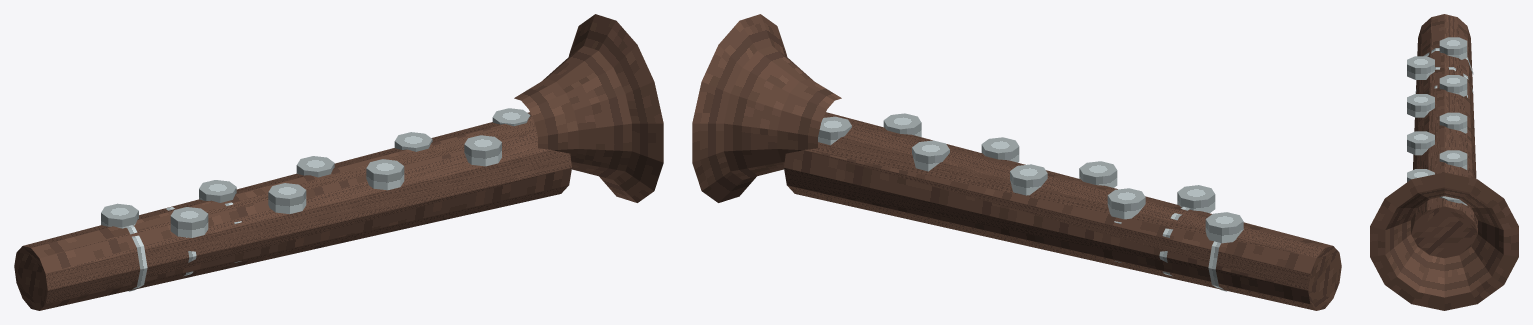
File: clarinet.glb
The picture shows the model from 3 angles, left to right: view 1: azimuth 30°, elevation 25°; view 2: azimuth 150°, elevation 25°; view 3: azimuth 270°, elevation 25°; orthographic projection. The views are drawn at different scales.
Parts seen in each view (by area): view 1: block_long keyed instrument body, block_flared bell, block_silver finger key (×9), block_tube ferrule; view 2: block_long keyed instrument body, block_flared bell, block_silver finger key (×9); view 3: block_flared bell, block_long keyed instrument body, block_silver finger key (×8).
Part boxes in pixels (<box>): block_long keyed instrument body: <box>14,112,571,310</box>; block_flared bell: <box>514,14,663,202</box>; block_silver finger key (×9): <box>101,108,530,237</box>; block_tube ferrule: <box>125,225,147,291</box>; block_long keyed instrument body: <box>784,112,1341,310</box>; block_flared bell: <box>692,14,841,202</box>; block_silver finger key (×9): <box>818,113,1243,243</box>; block_flared bell: <box>1370,172,1518,310</box>; block_long keyed instrument body: <box>1411,14,1477,258</box>; block_silver finger key (×8): <box>1407,37,1467,181</box>.
Size of the model in its own units: 0.6 by 0.1716 by 0.1673.
1 material, 1 textured.
